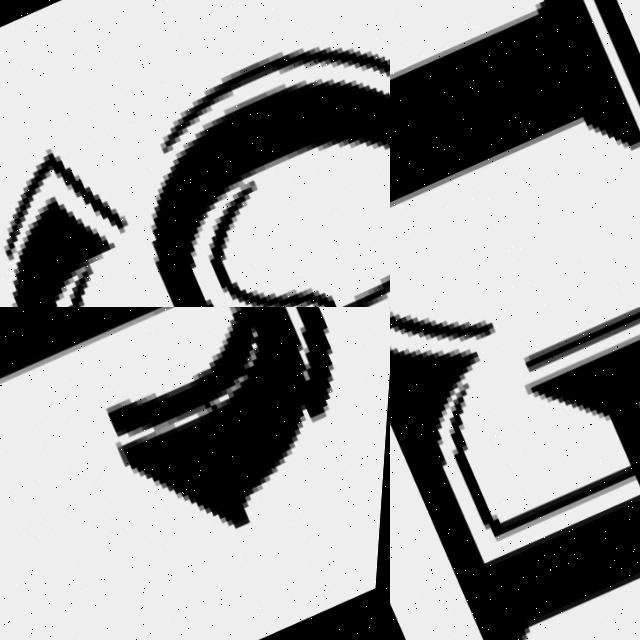6: (0, 0, 390, 307)
F: (390, 307, 640, 640)
I: (390, 0, 640, 207)
J: (0, 307, 390, 640)
